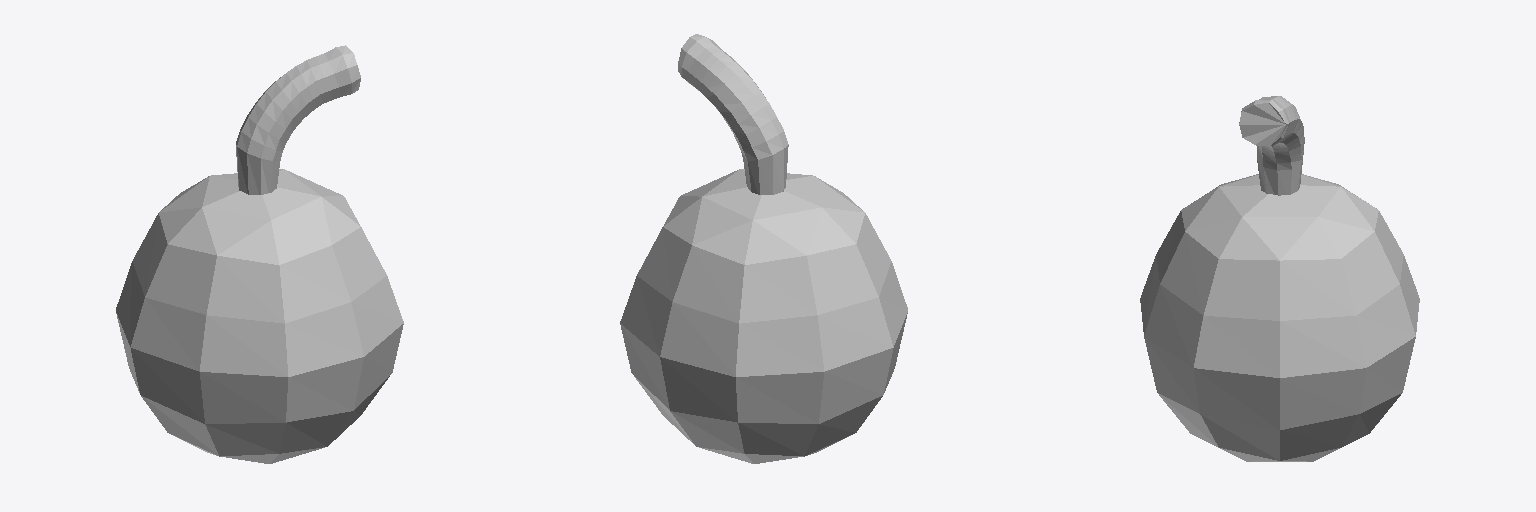
Rendered from cherry.obj.
3 views of the same model, side by side, from view 1: azimuth 30°, elevation 25°; view 2: azimuth 150°, elevation 25°; view 3: azimuth 270°, elevation 25° (orthographic).
Parts seen in each view (by area): view 1: Sphere; view 2: Sphere; view 3: Sphere.
Part boxes in pixels (bbox=[...]): Sphere: bbox=[116, 45, 403, 463]; Sphere: bbox=[620, 34, 907, 463]; Sphere: bbox=[1140, 96, 1419, 461].
Bounding box in the file's own units: 0.9041 × 1.34 × 0.872.